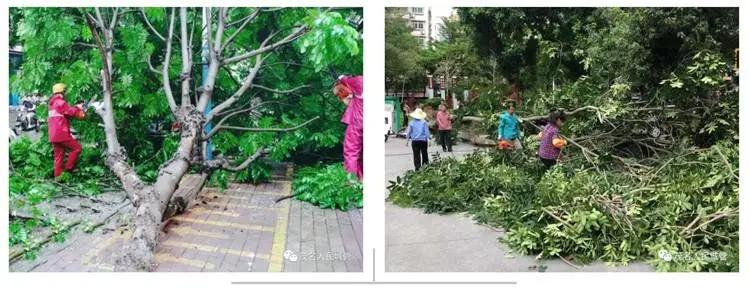Downstairs: (22, 9, 357, 264), (408, 88, 733, 266)
